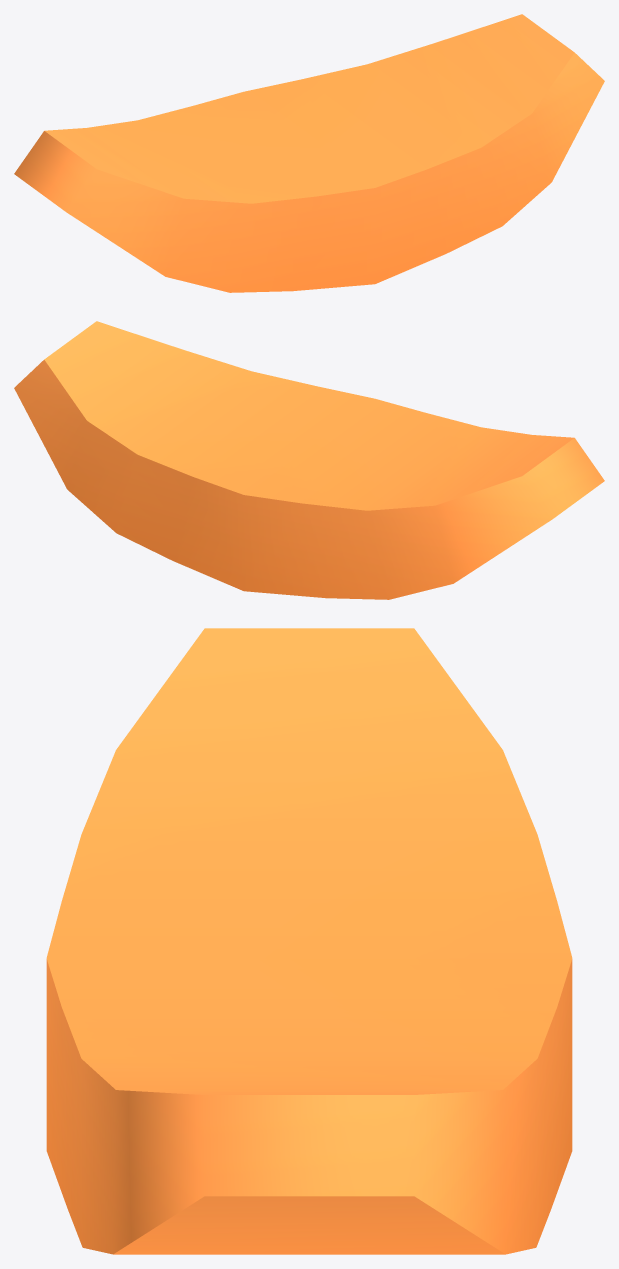
The model's file is bronze_guard_078.glb.
The picture shows the model from 3 angles, top to bottom: view 1: azimuth 30°, elevation 25°; view 2: azimuth 150°, elevation 25°; view 3: azimuth 270°, elevation 25°; orthographic projection. The views are drawn at different scales.
Parts seen in each view (by area): view 1: bronze_guard_078; view 2: bronze_guard_078; view 3: bronze_guard_078.
Part boxes in pixels (left/top/right/bottom): bronze_guard_078: left=14, top=14, right=604, bottom=292; bronze_guard_078: left=14, top=321, right=604, bottom=599; bronze_guard_078: left=46, top=628, right=572, bottom=1254.
Bounding box in the file's own units: 6.9 × 1.77 × 2.92.
1 material, 1 textured.
